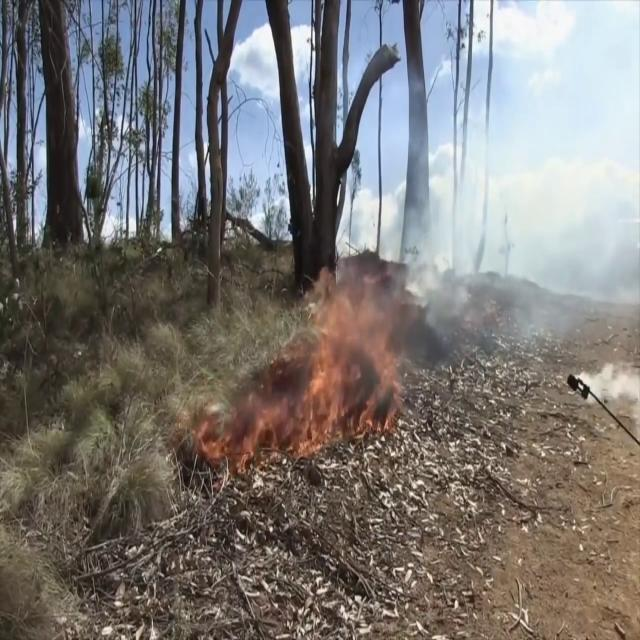Fire: (288, 266, 422, 452)
Smoke: (401, 37, 640, 341)
